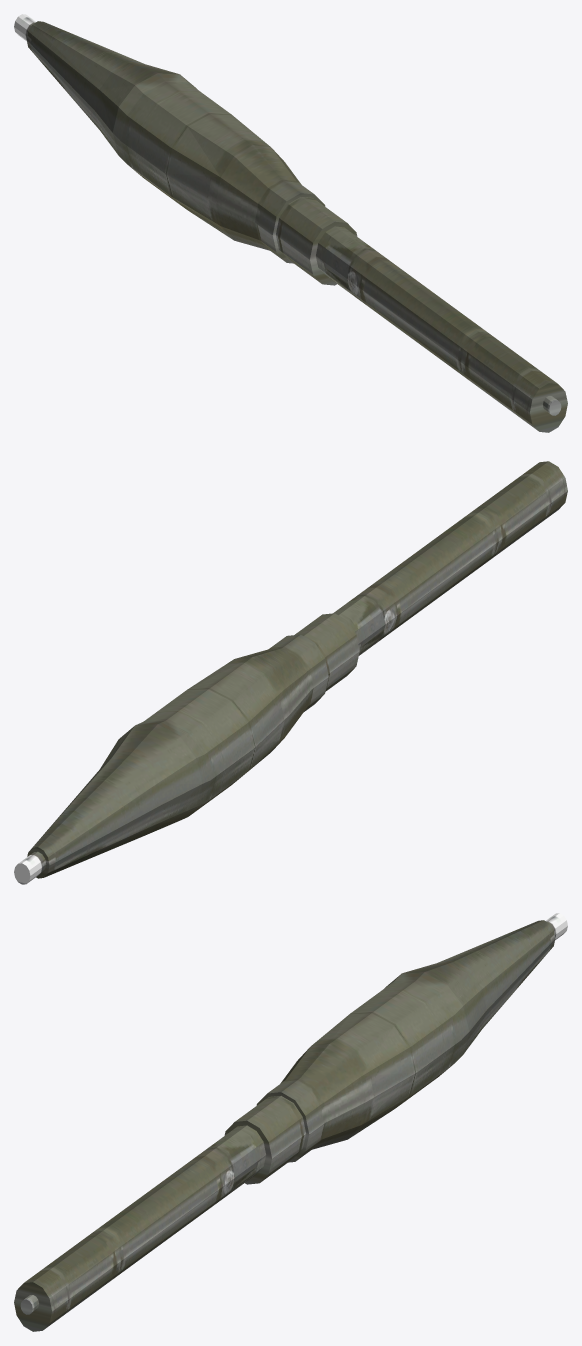
Rendered from rpgrocket.fbx.
3 renders of one model, top to bottom at view 1: azimuth 30°, elevation 25°; view 2: azimuth 150°, elevation 25°; view 3: azimuth 330°, elevation 25°, orthographic.
Parts seen in each view (by area): view 1: rpg_rocket; view 2: rpg_rocket; view 3: rpg_rocket.
Boxes of the visible parts, x1,y1,x2,y2 form: rpg_rocket: (14, 14, 567, 432); rpg_rocket: (14, 461, 567, 884); rpg_rocket: (14, 913, 567, 1331).
Bounding box in the file's own units: 3.27 × 3.47 × 33.66.
Materials: 1 (1 with a texture image).
